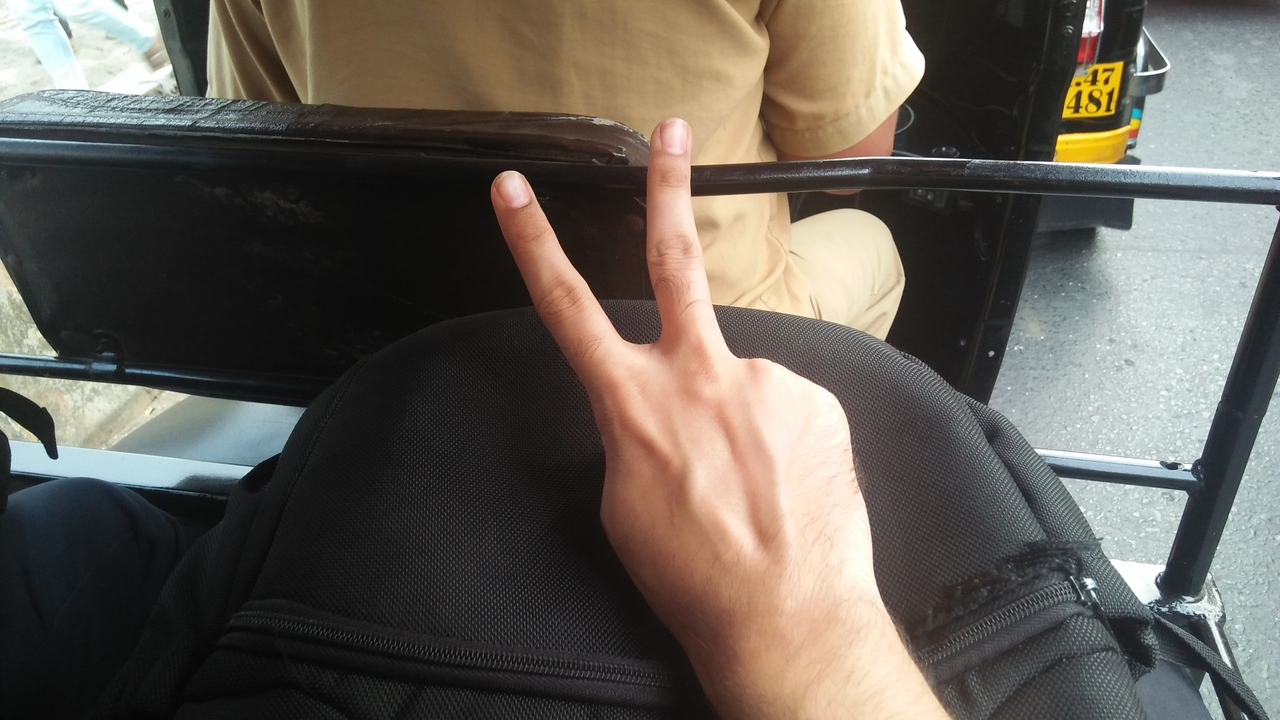fingertip: (482, 160, 540, 220), (644, 110, 700, 162)
